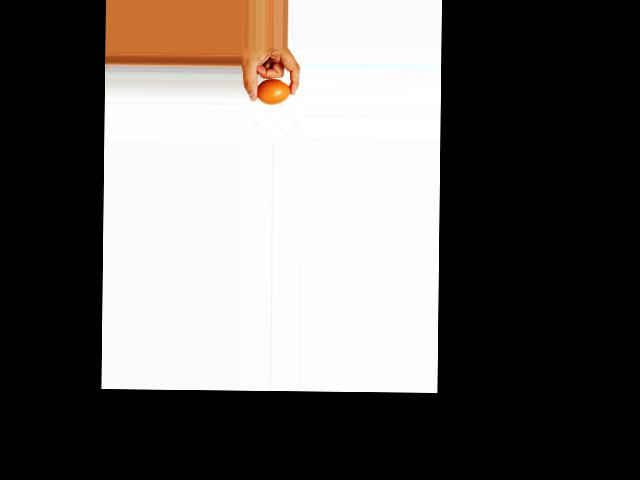egg: (256, 78, 291, 105)
